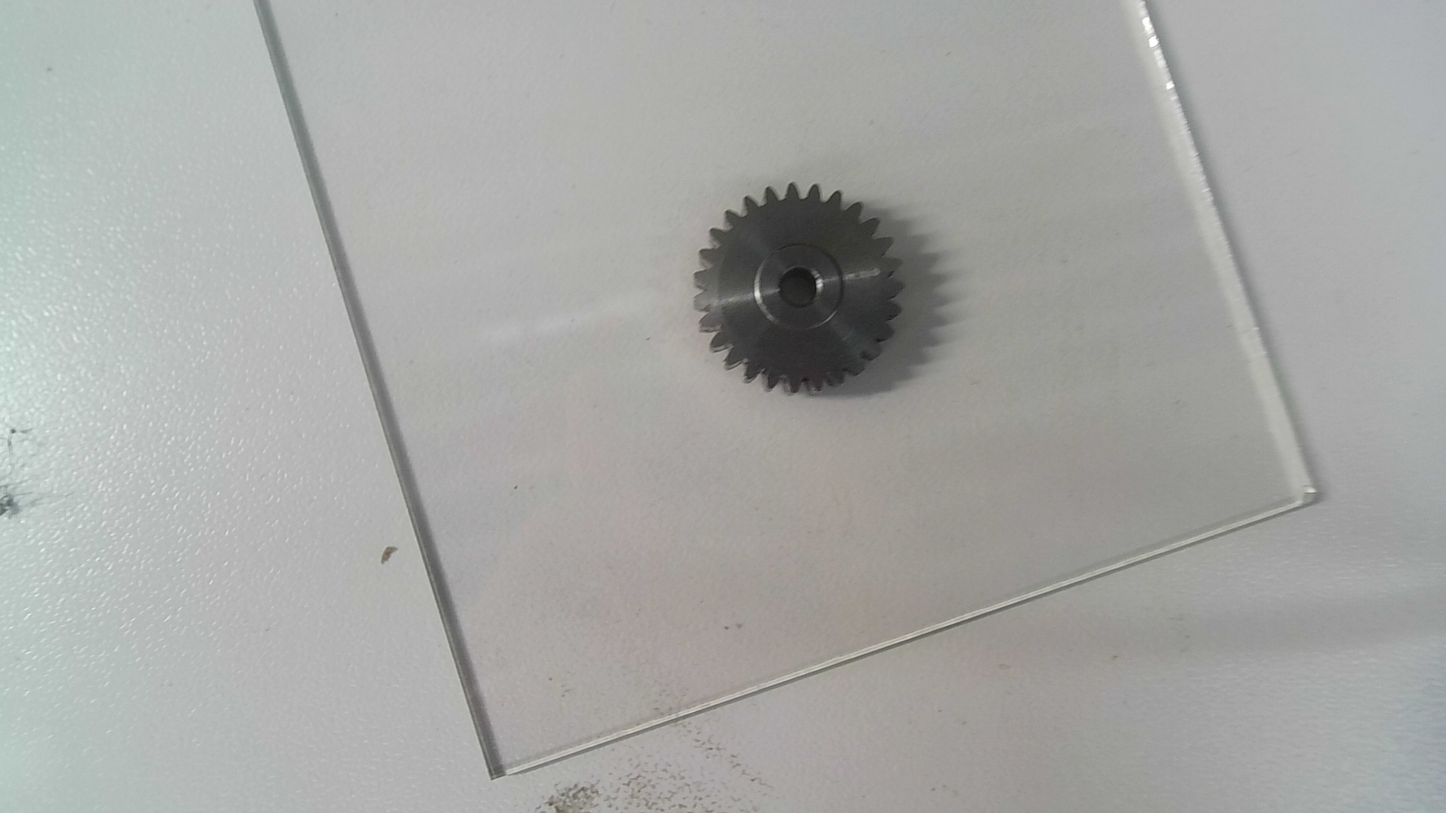gear: (688, 180, 909, 403)
